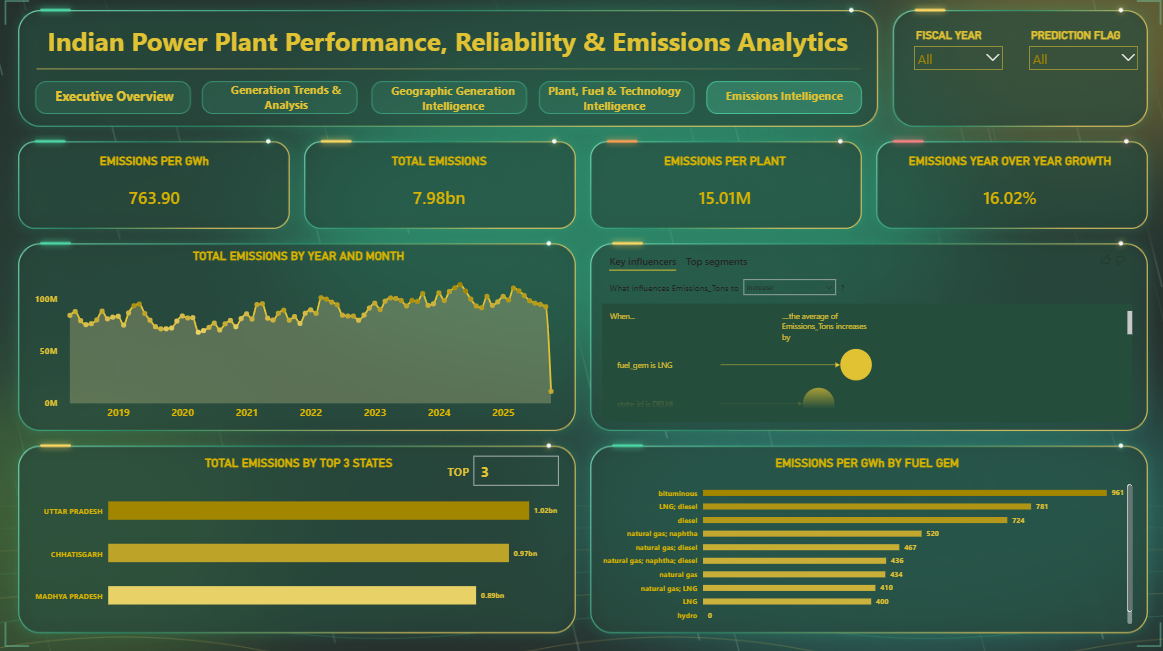

This screenshot's page, from the dashboard's own definition file:
{"tool":"powerbi","page":{"name":"Page 5","canvas":[1920,1080],"ordinal":4},"visuals":[{"type":"areaChart","title":"TOTAL EMISSIONS BY YEAR AND MONTH","fields":{"Category":["Dim_Date.Date.Variation.Date Hierarchy.Year","Dim_Date.Date.Variation.Date Hierarchy.Month"],"Y":["calculation_table.Total_emissions"]},"box":[41.6,399.9,901.2,314.9],"z":0},{"type":"clusteredBarChart","fields":{"Category":["Dim_Geography.state_id"],"Y":["calculation_table.STATE_TOP_EMISSION"]},"box":[41.7,740.9,901.2,305.8],"z":1000},{"type":"keyDriversVisual","fields":{"ExplainBy":["Fact_PowerGeneration.state_id","Fact_PowerGeneration.technology","Dim_Fuel.fuel_gem","Fact_PowerGeneration.Prediction_Flag","Fact_PowerGeneration.unit_status"],"Target":["Fact_PowerGeneration.Emissions_Tons"]},"box":[975.4,399.9,904.8,314.9],"z":2000},{"type":"clusteredBarChart","title":"EMISSIONS PER GWh BY FUEL GEM","fields":{"Category":["Dim_Fuel.fuel_gem"],"Y":["calculation_table.emissions_per_gwh"]},"box":[975.4,740.2,904.8,305.8],"z":3000},{"type":"card","title":"EMISSIONS PER GWh","fields":{"Values":["calculation_table.emissions_per_gwh"]},"box":[36.2,242.5,434.3,137.5],"z":4000},{"type":"card","title":"TOTAL EMISSIONS","fields":{"Values":["calculation_table.Total_emissions"]},"box":[504.9,242.5,437.9,137.5],"z":5000},{"type":"card","title":"EMISSIONS PER PLANT","fields":{"Values":["calculation_table.Emissions per plant unit"]},"box":[975.4,242.5,436.1,137.5],"z":6000},{"type":"card","title":"EMISSIONS YEAR OVER YEAR GROWTH","fields":{"Values":["calculation_table.Emissions YoY growth"]},"box":[1447.7,242.5,432.5,137.5],"z":7000},{"type":"textbox","box":[77.8,41.6,1512.9,150.2],"z":8000,"group":"g2"},{"type":"slicer","fields":{"Values":["Dim_PlantUnitYear.fiscal_year"]},"box":[1500.2,52.5,155.6,150.2],"z":8000},{"type":"slicer","fields":{"Values":["Dim_EmissionsQuality.prediction_flag"]},"box":[1689.9,51.5,189.4,150.3],"z":9000},{"type":"pageNavigator","box":[56.1,141.1,1357.2,50.7],"z":9000,"group":"g2"},{"type":"textbox","box":[77.8,146.6,220.8,39.8],"z":10000,"group":"g2"},{"type":"group","id":"g1","title":"Group 2","box":[717.9,749.2,210.8,71],"z":10000},{"type":"group","id":"g2","title":"Group 1","box":[56.1,41.6,1534.6,159.3],"z":11000},{"type":"textbox","box":[352.9,139.3,238.9,52.5],"z":11000,"group":"g2"},{"type":"slicer","fields":{"Values":["TOP_NO.TOP_NO"]},"box":[771.6,749.2,158.8,70.8],"z":11000,"group":"g1"},{"type":"textbox","box":[637,141.1,220.8,59.7],"z":12000,"group":"g2"},{"type":"textbox","box":[717.9,749.2,73.3,53.7],"z":12000,"group":"g1"},{"type":"textbox","box":[901.2,141.1,220.8,54.3],"z":13000,"group":"g2"},{"type":"textbox","box":[1181.5,149.1,220.8,36.2],"z":14000,"group":"g2"}]}

Visuals, with their boxes in screenshot pixels (x1, y1, x2, y2), scaled from the page's 1920x1080 canvas onto the 1163x651 screenshot:
"TOTAL EMISSIONS BY YEAR AND MONTH" areaChart: {"x1": 25, "y1": 241, "x2": 571, "y2": 431}
clusteredBarChart - Dim_Geography.state_id x calculation_table.STATE_TOP_EMISSION: {"x1": 25, "y1": 447, "x2": 571, "y2": 631}
keyDriversVisual - Fact_PowerGeneration.state_id x Fact_PowerGeneration.technology: {"x1": 591, "y1": 241, "x2": 1139, "y2": 431}
"EMISSIONS PER GWh BY FUEL GEM" clusteredBarChart: {"x1": 591, "y1": 446, "x2": 1139, "y2": 631}
"EMISSIONS PER GWh" card: {"x1": 22, "y1": 146, "x2": 285, "y2": 229}
"TOTAL EMISSIONS" card: {"x1": 306, "y1": 146, "x2": 571, "y2": 229}
"EMISSIONS PER PLANT" card: {"x1": 591, "y1": 146, "x2": 855, "y2": 229}
"EMISSIONS YEAR OVER YEAR GROWTH" card: {"x1": 877, "y1": 146, "x2": 1139, "y2": 229}
textbox: {"x1": 47, "y1": 25, "x2": 964, "y2": 116}
slicer - Dim_PlantUnitYear.fiscal_year: {"x1": 909, "y1": 32, "x2": 1003, "y2": 122}
slicer - Dim_EmissionsQuality.prediction_flag: {"x1": 1024, "y1": 31, "x2": 1138, "y2": 122}
pageNavigator: {"x1": 34, "y1": 85, "x2": 856, "y2": 116}
textbox: {"x1": 47, "y1": 88, "x2": 181, "y2": 112}
"Group 2" group: {"x1": 435, "y1": 452, "x2": 563, "y2": 494}
"Group 1" group: {"x1": 34, "y1": 25, "x2": 964, "y2": 121}
textbox: {"x1": 214, "y1": 84, "x2": 358, "y2": 116}
slicer - TOP_NO.TOP_NO: {"x1": 467, "y1": 452, "x2": 564, "y2": 494}
textbox: {"x1": 386, "y1": 85, "x2": 520, "y2": 121}
textbox: {"x1": 435, "y1": 452, "x2": 479, "y2": 484}
textbox: {"x1": 546, "y1": 85, "x2": 680, "y2": 118}
textbox: {"x1": 716, "y1": 90, "x2": 849, "y2": 112}
